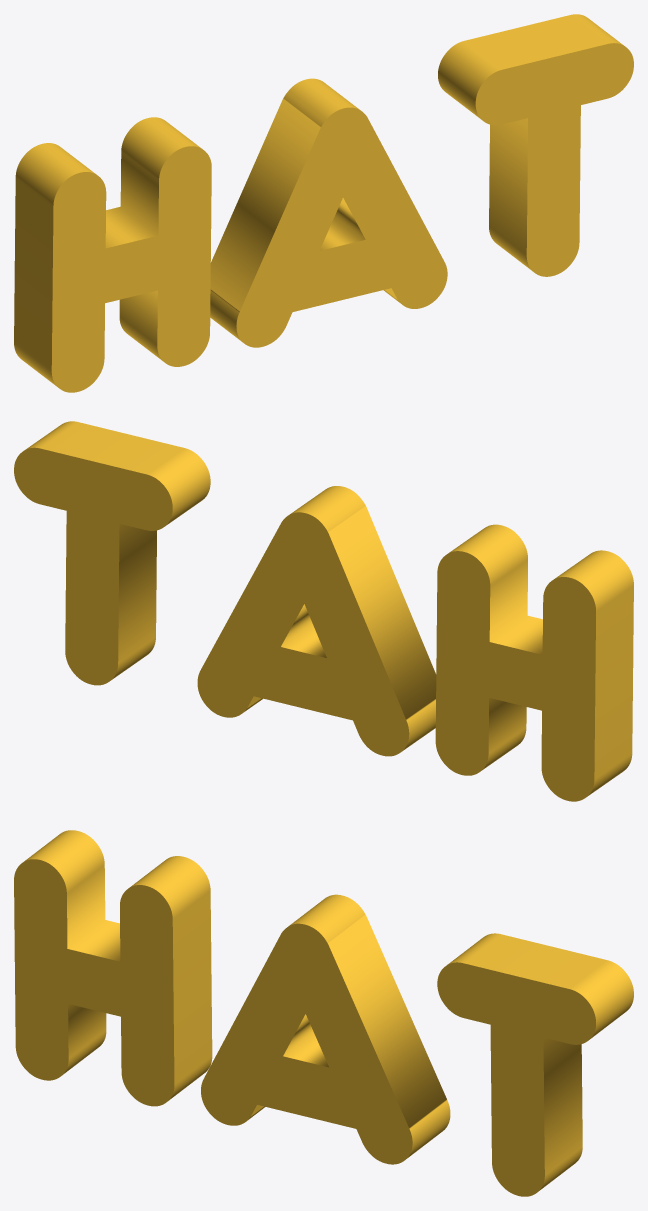
Rendered from hatblend.fbx.
The picture shows the model from 3 angles, top to bottom: view 1: azimuth 30°, elevation 25°; view 2: azimuth 150°, elevation 25°; view 3: azimuth 330°, elevation 25°; orthographic projection.
Visible parts, largest first — view 1: Text; view 2: Text; view 3: Text.
Part boxes in pixels (x1,y1,x2,y2): Text: (14,14,633,392); Text: (14,421,633,801); Text: (14,830,633,1196).
Bounding box in the file's own units: 142 × 51.9 × 16.95.
